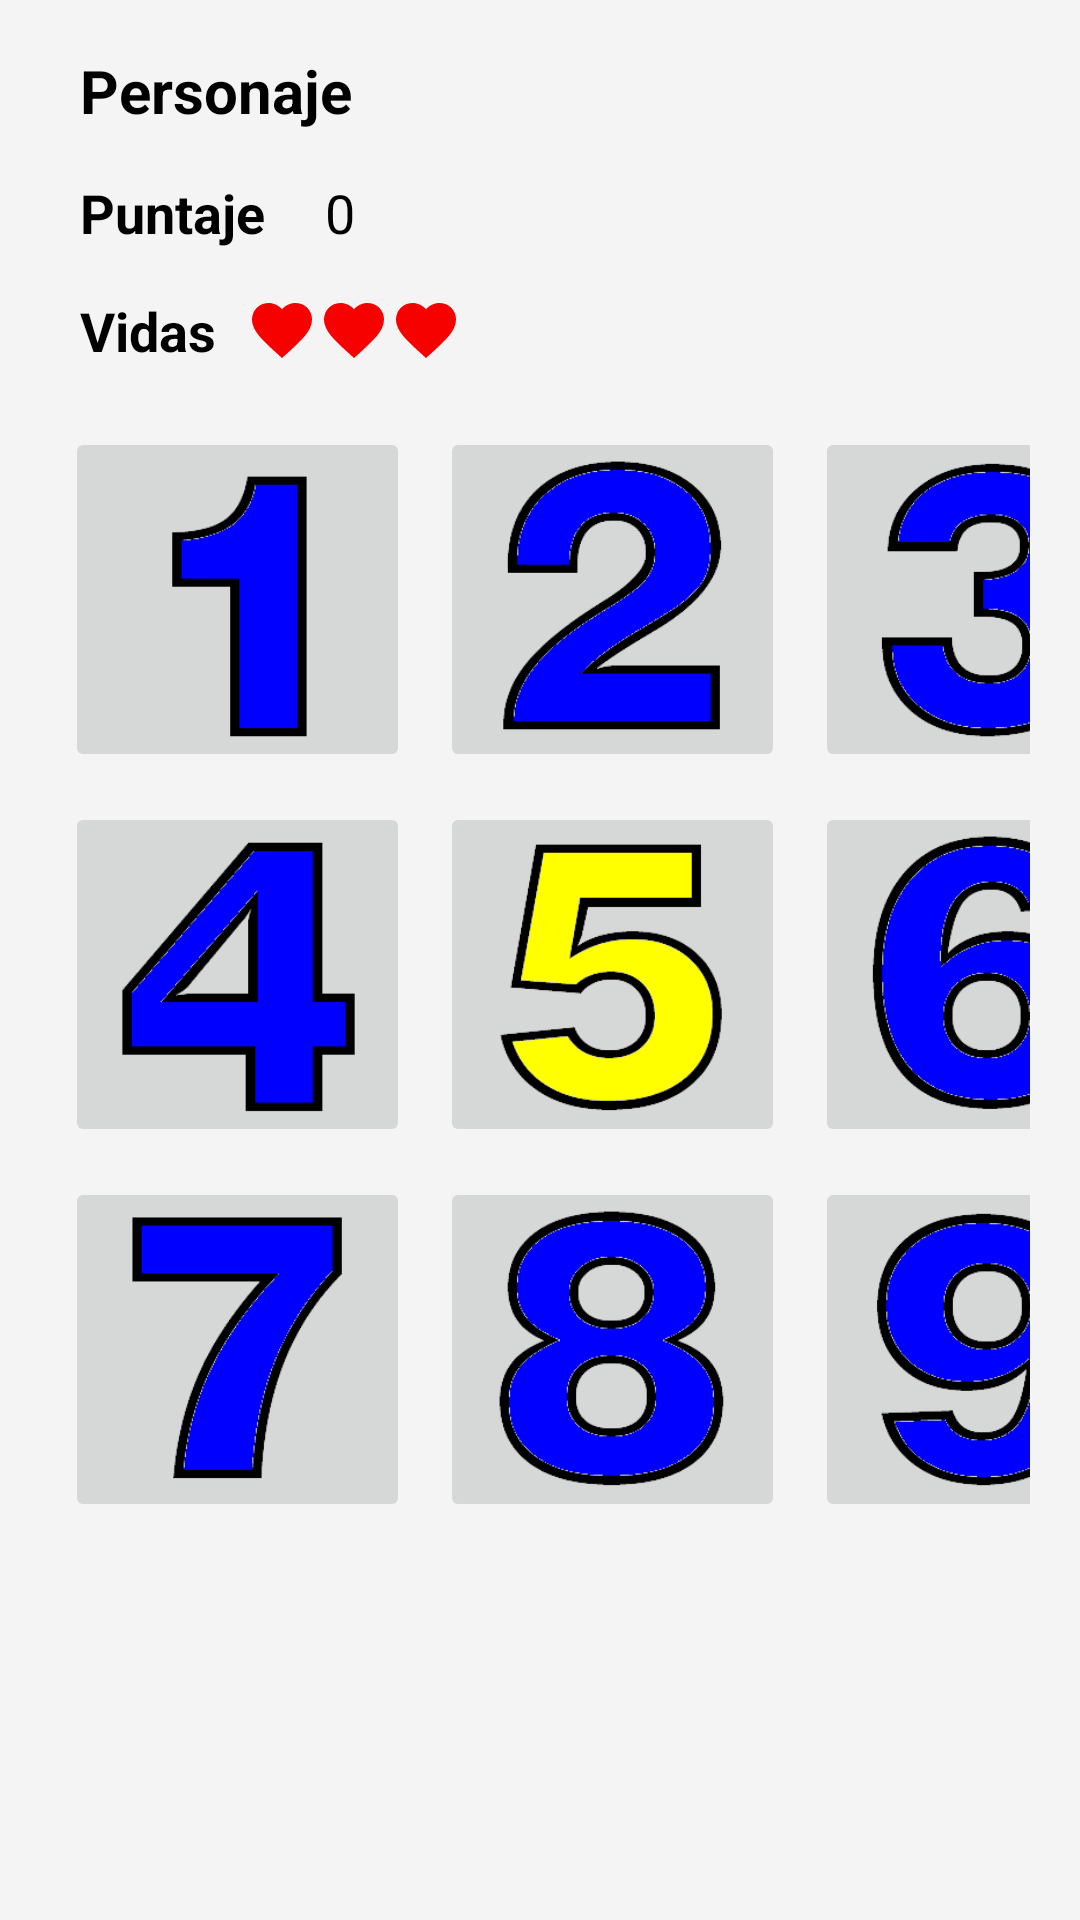

Icons on this 1080px×1920px Android screen, each with its box as (x1, y1, x2, y2):
favorite: (252, 303, 312, 358), (324, 303, 384, 358), (396, 303, 456, 358)
